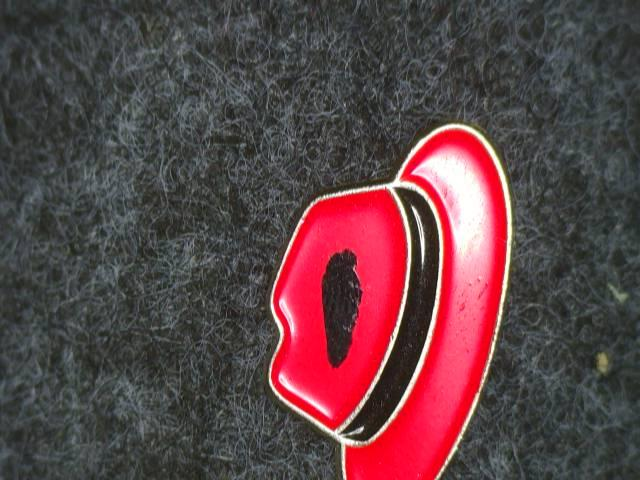Red-Hat: (226, 95, 526, 480)
Scratch: (305, 233, 377, 380)
